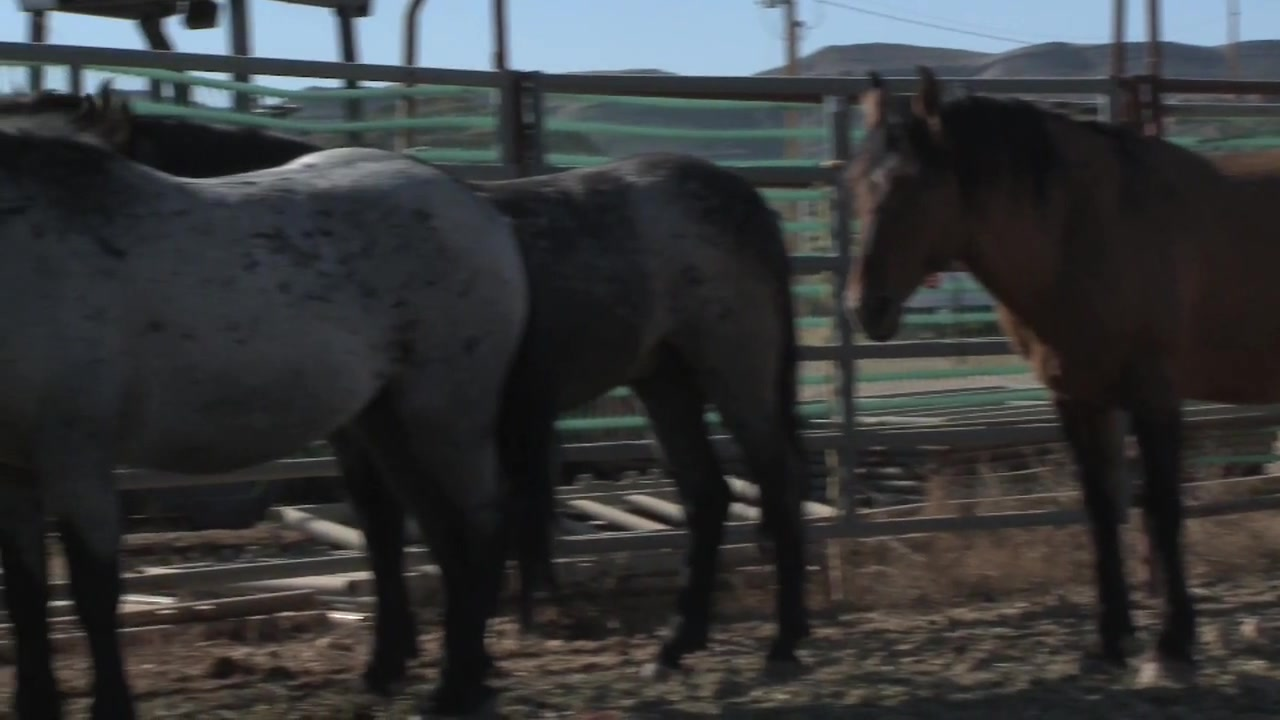horse: (2, 84, 818, 693), (1, 124, 532, 720), (844, 71, 1280, 688)
